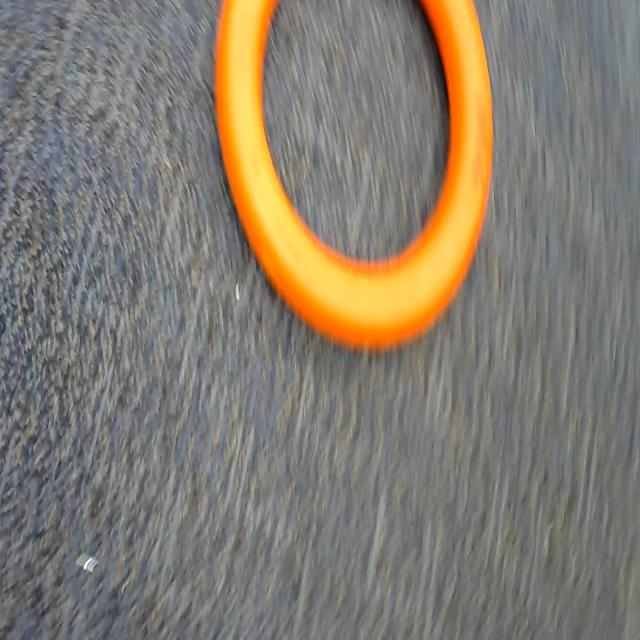note: (208, 0, 513, 389)
